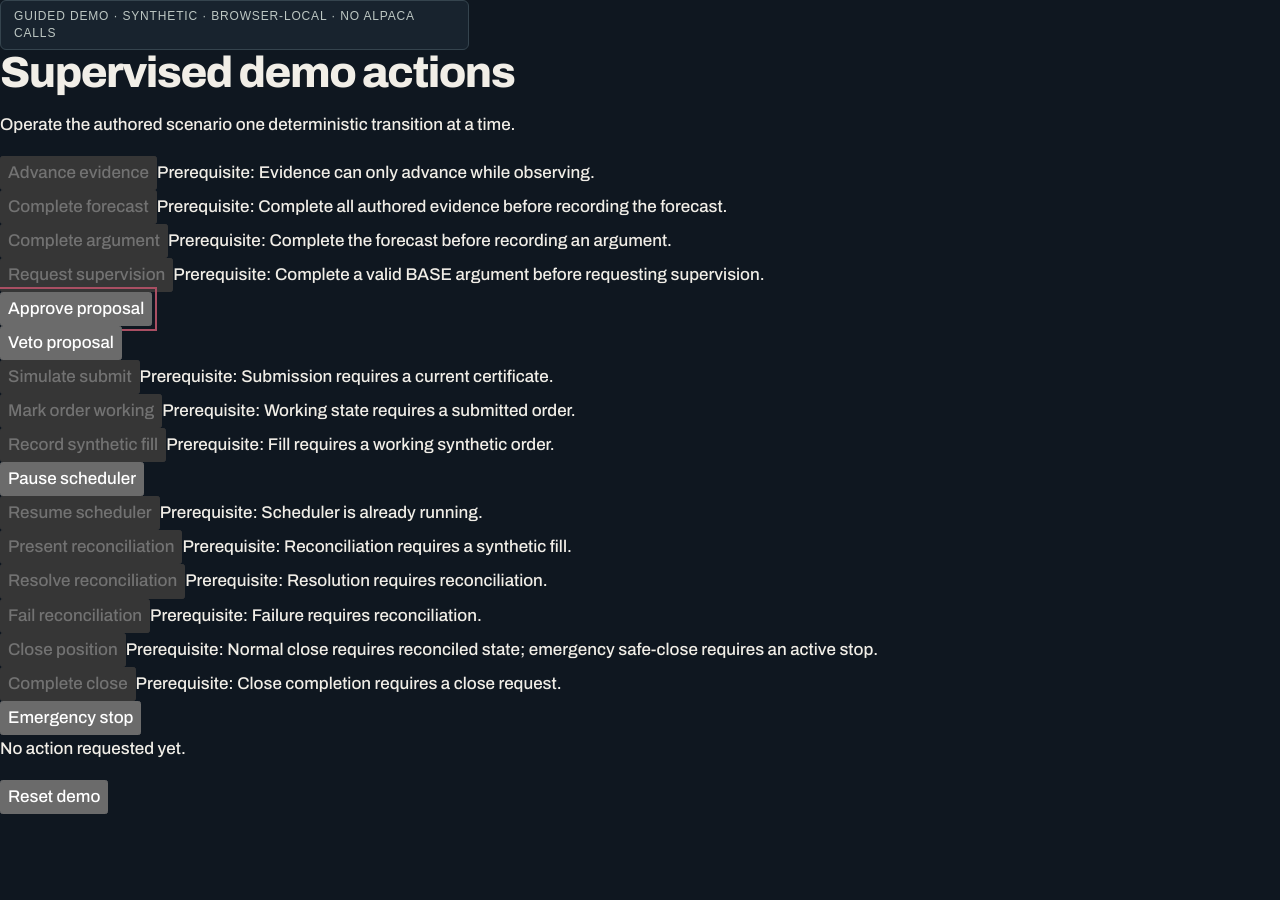
Scenario: simulator components › traps Tab and Shift+Tab, cancels on Escape, and restores invoking focus
Click the button "Approve proposal": (76, 309) [0,292,152,326]
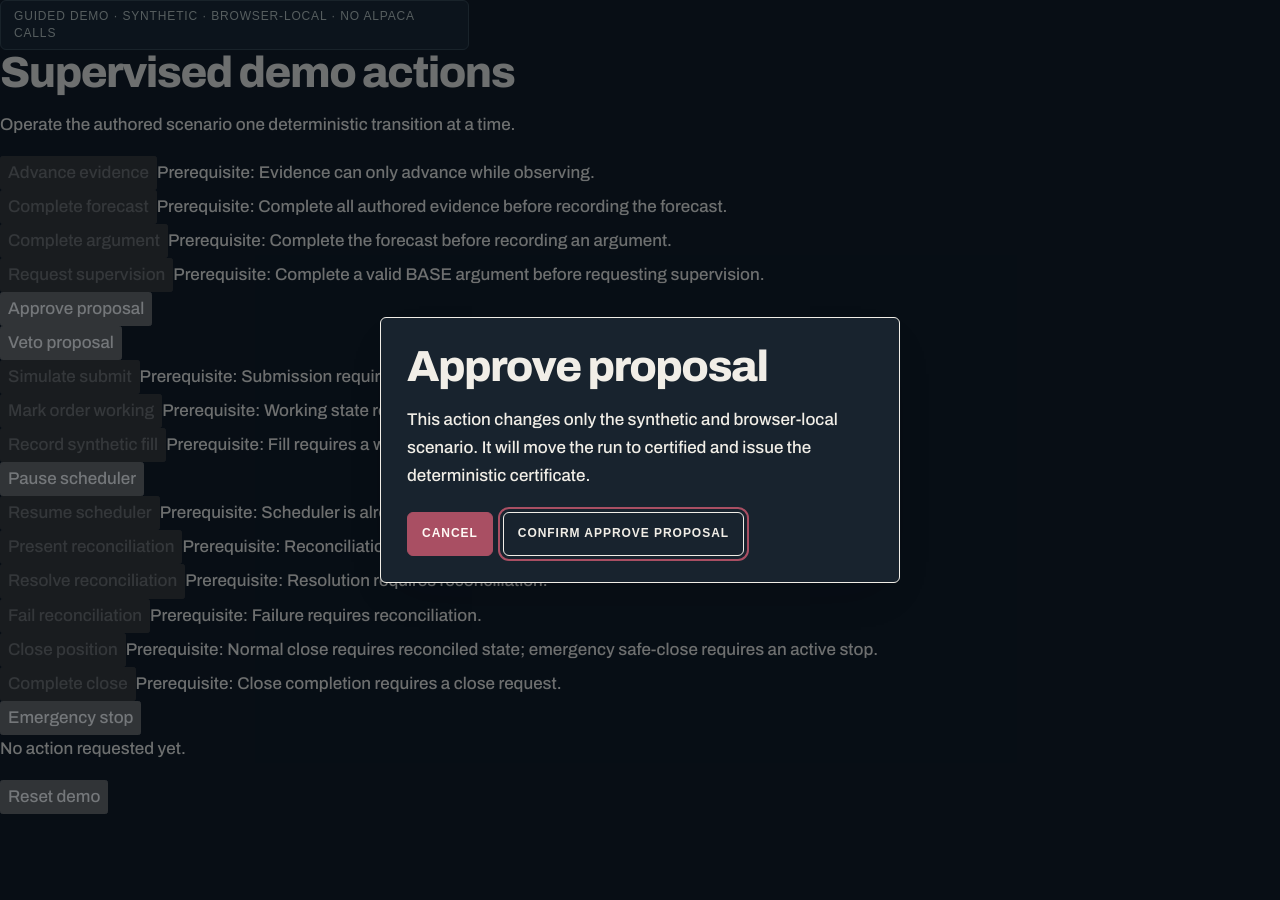
Press Tab in the dialog, box [380,317,900,583]
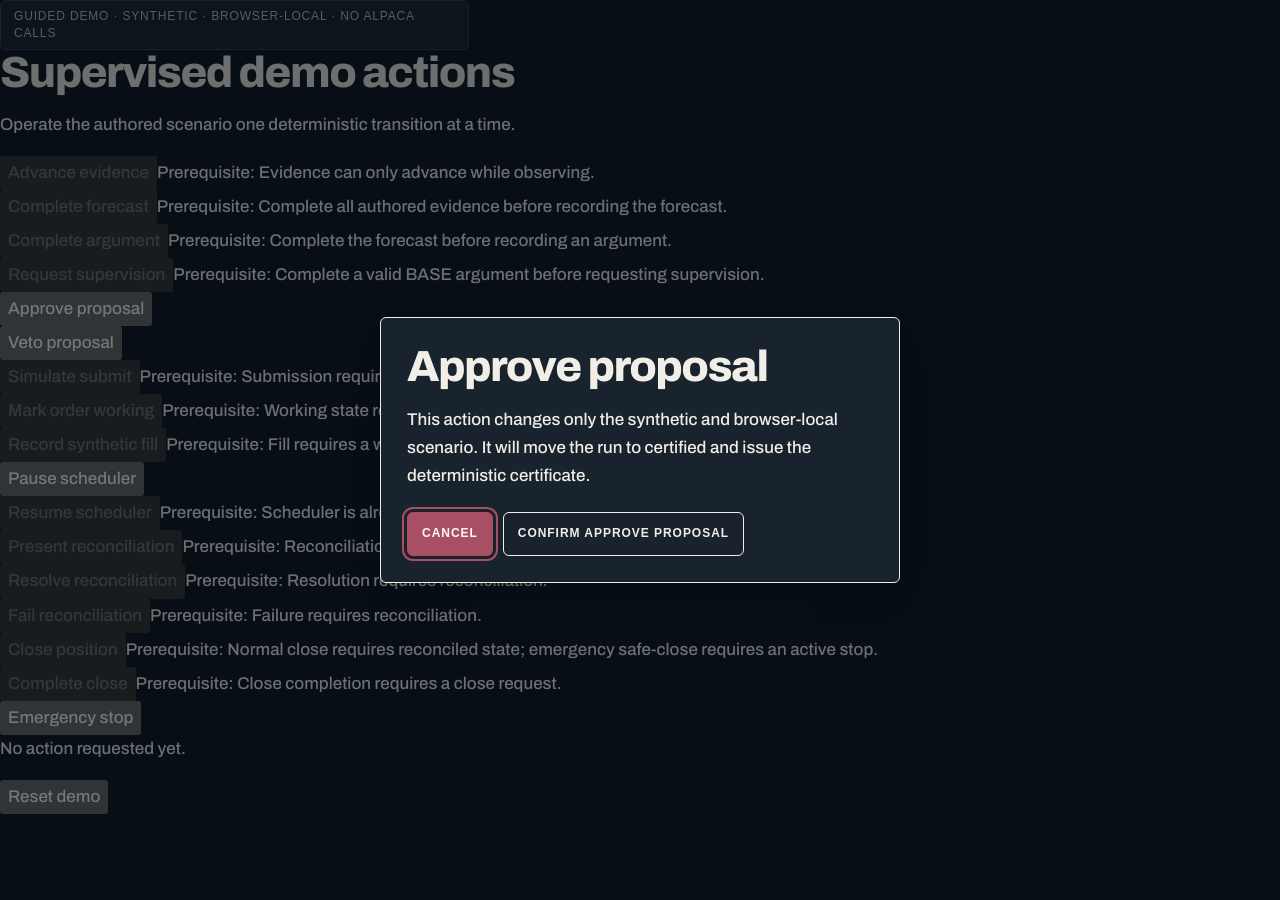
Press Tab in the dialog, box [380,317,900,583]
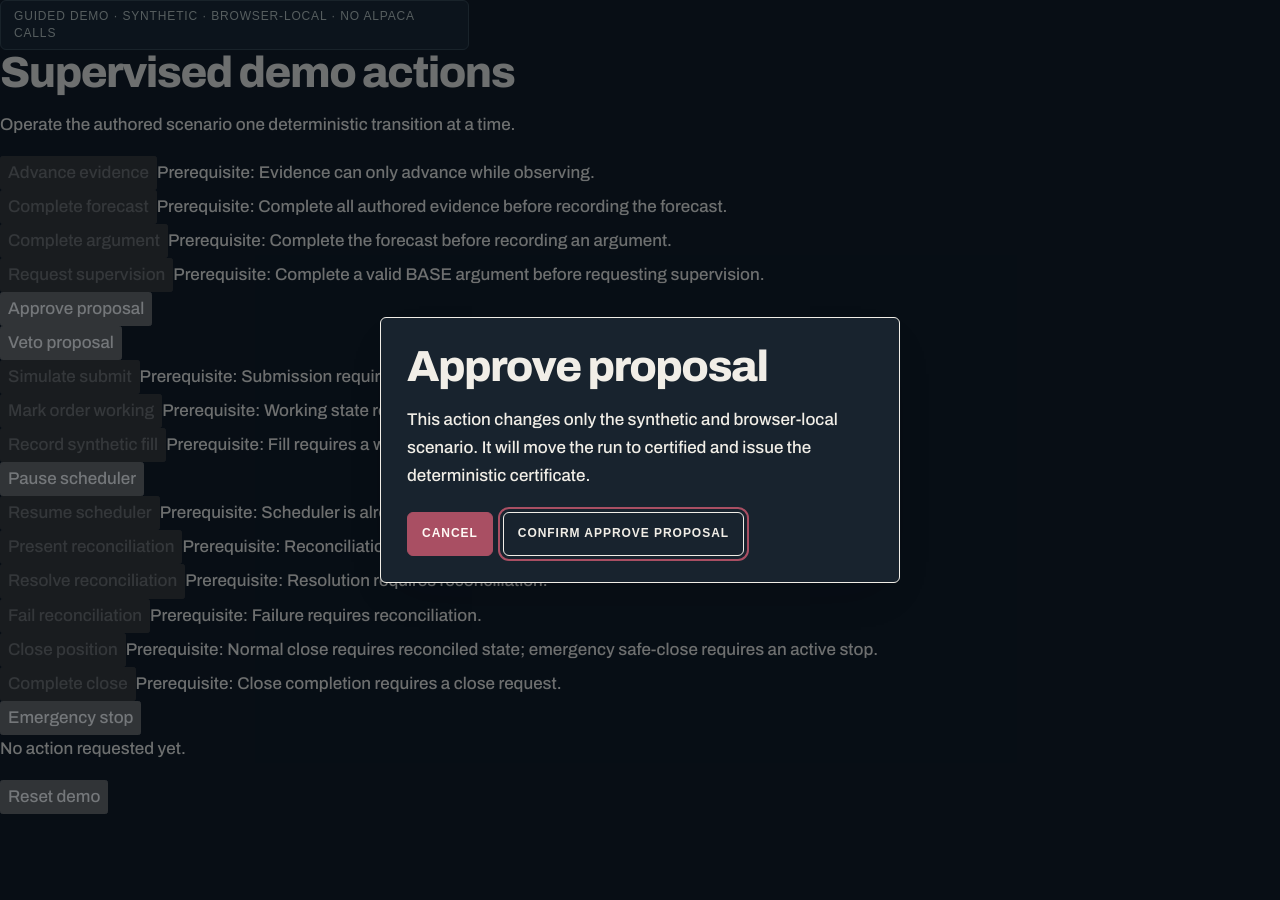
Press Escape in the dialog, box [380,317,900,583]
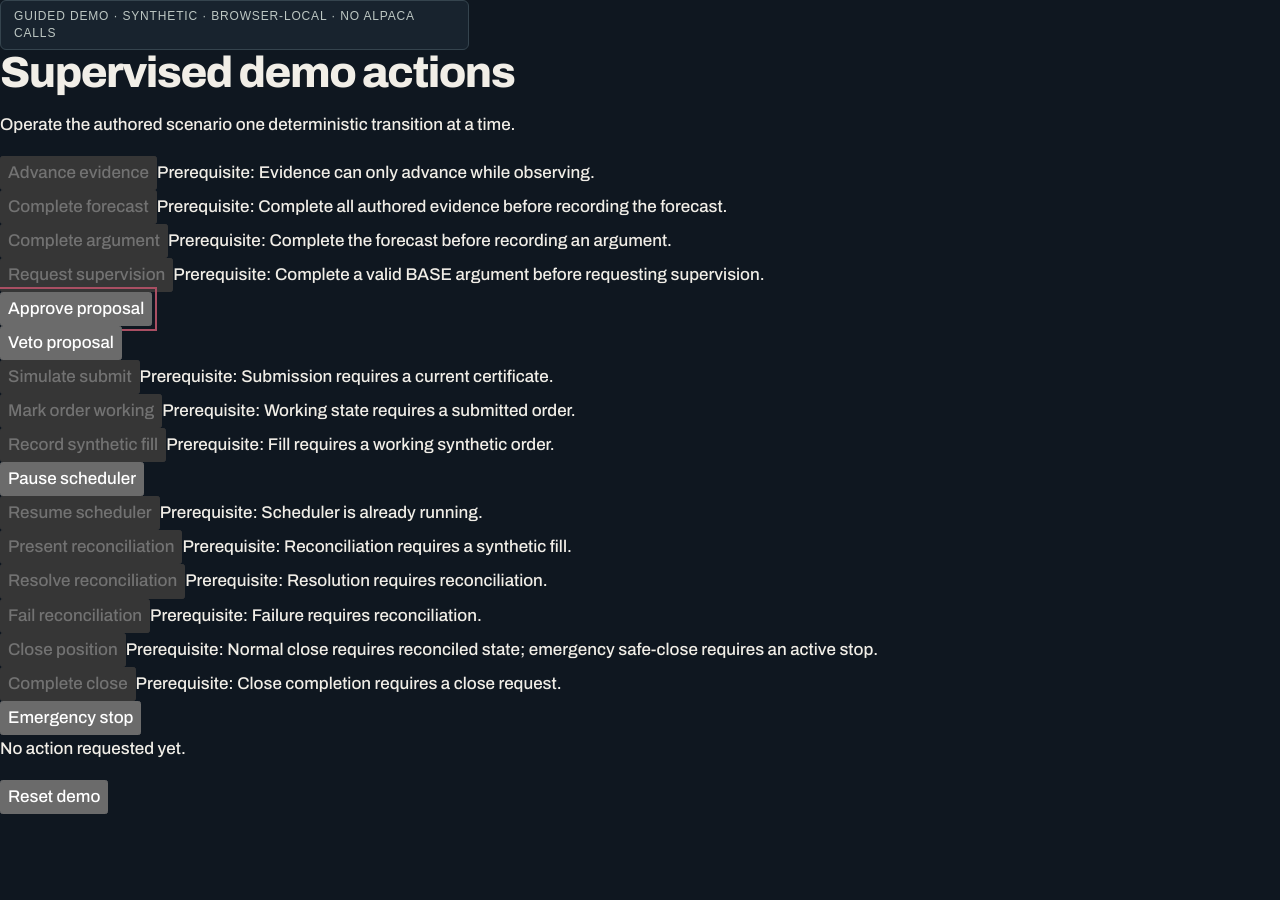
Now the dialog is gone
